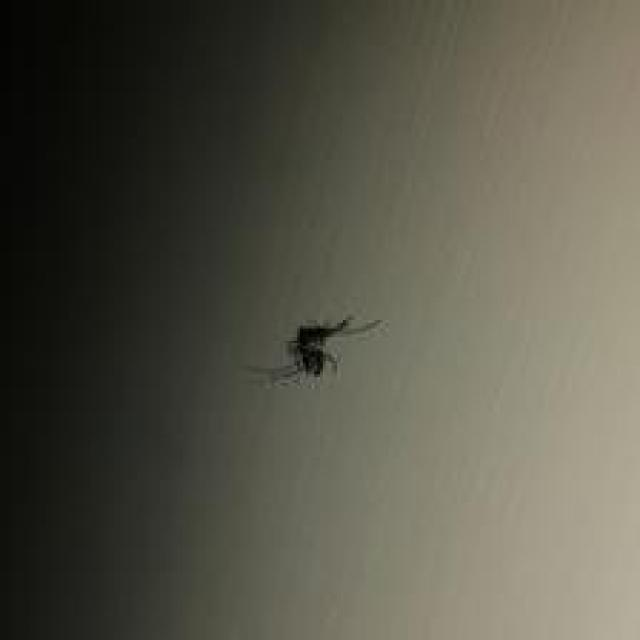Aedes albopictus: (244, 313, 384, 390)
